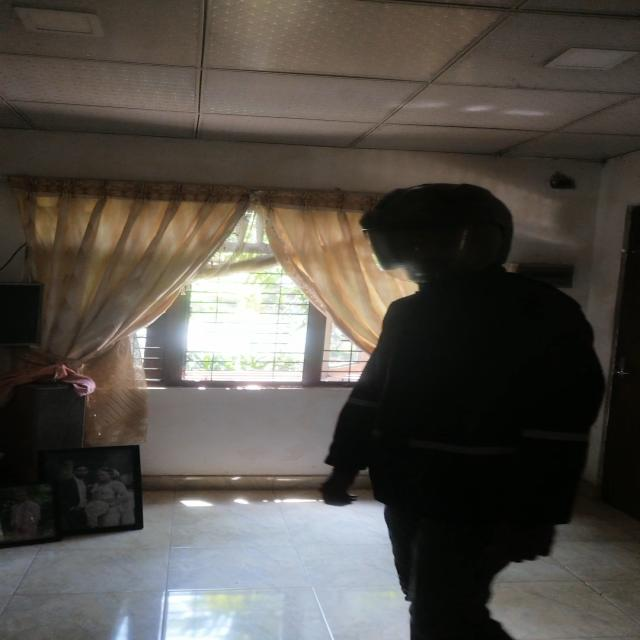Helmet_Wearer: (357, 186, 519, 292)
Jacket_Wearer: (323, 278, 612, 554)
Person: (330, 186, 616, 640)
